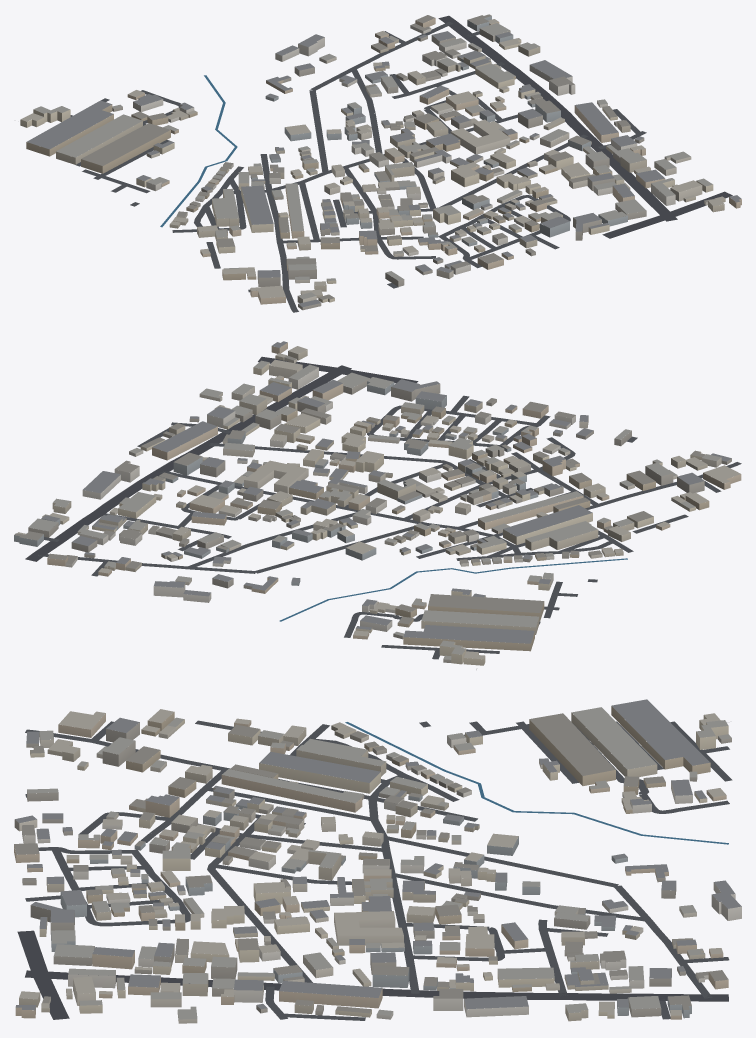
3 views of the same model, one above another, from view 1: azimuth 30°, elevation 25°; view 2: azimuth 150°, elevation 25°; view 3: azimuth 270°, elevation 25° (orthographic). The views are drawn at different scales.
Parts seen in each view (by area): view 1: buildings_roofs, buildings_walls, roads, water; view 2: buildings_roofs, buildings_walls, roads, water; view 3: buildings_roofs, buildings_walls, roads, water.
Boxes of the visible parts, bbox=[...] form: buildings_roofs: bbox=[21, 14, 741, 307]; buildings_walls: bbox=[20, 16, 741, 310]; roads: bbox=[70, 15, 732, 312]; water: bbox=[160, 75, 237, 227]; buildings_roofs: bbox=[14, 341, 740, 659]; buildings_walls: bbox=[14, 342, 741, 665]; roads: bbox=[25, 356, 741, 669]; water: bbox=[279, 558, 627, 621]; buildings_roofs: bbox=[14, 699, 741, 1019]; buildings_walls: bbox=[14, 706, 741, 1023]; roads: bbox=[17, 720, 732, 1020]; water: bbox=[345, 722, 728, 844].
Bounding box in the file's own units: 530 × 9.59 × 518.
